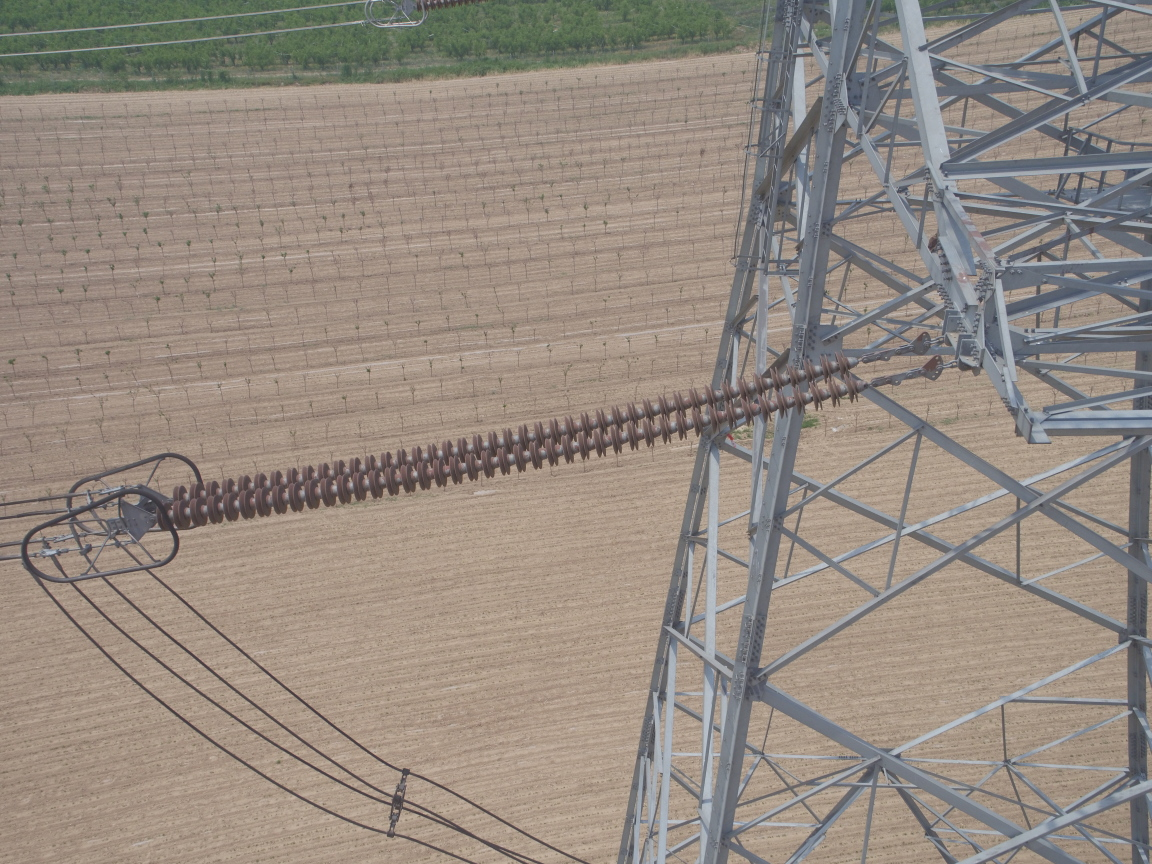insulator: (149, 345, 898, 534)
